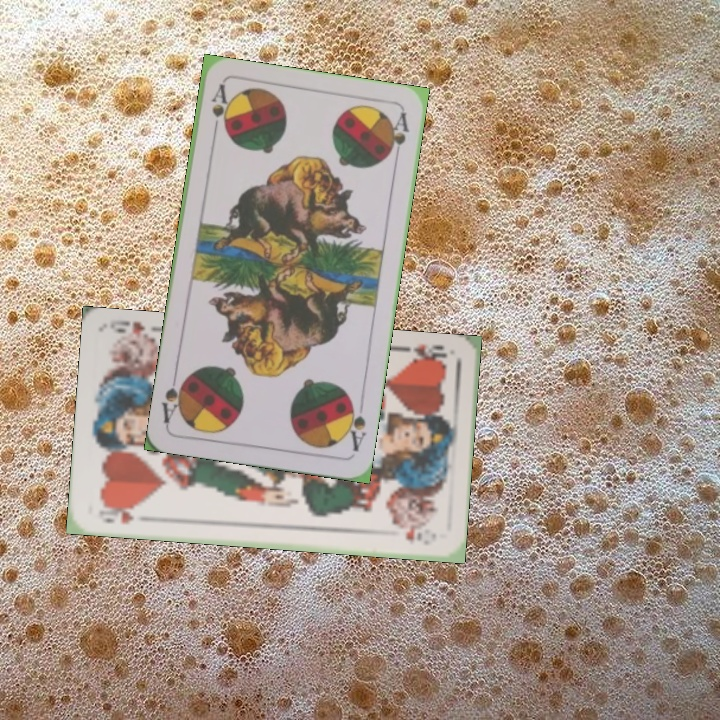HO: (395, 340, 449, 367), (95, 501, 137, 527)
SA: (340, 395, 369, 454), (207, 81, 231, 140)
